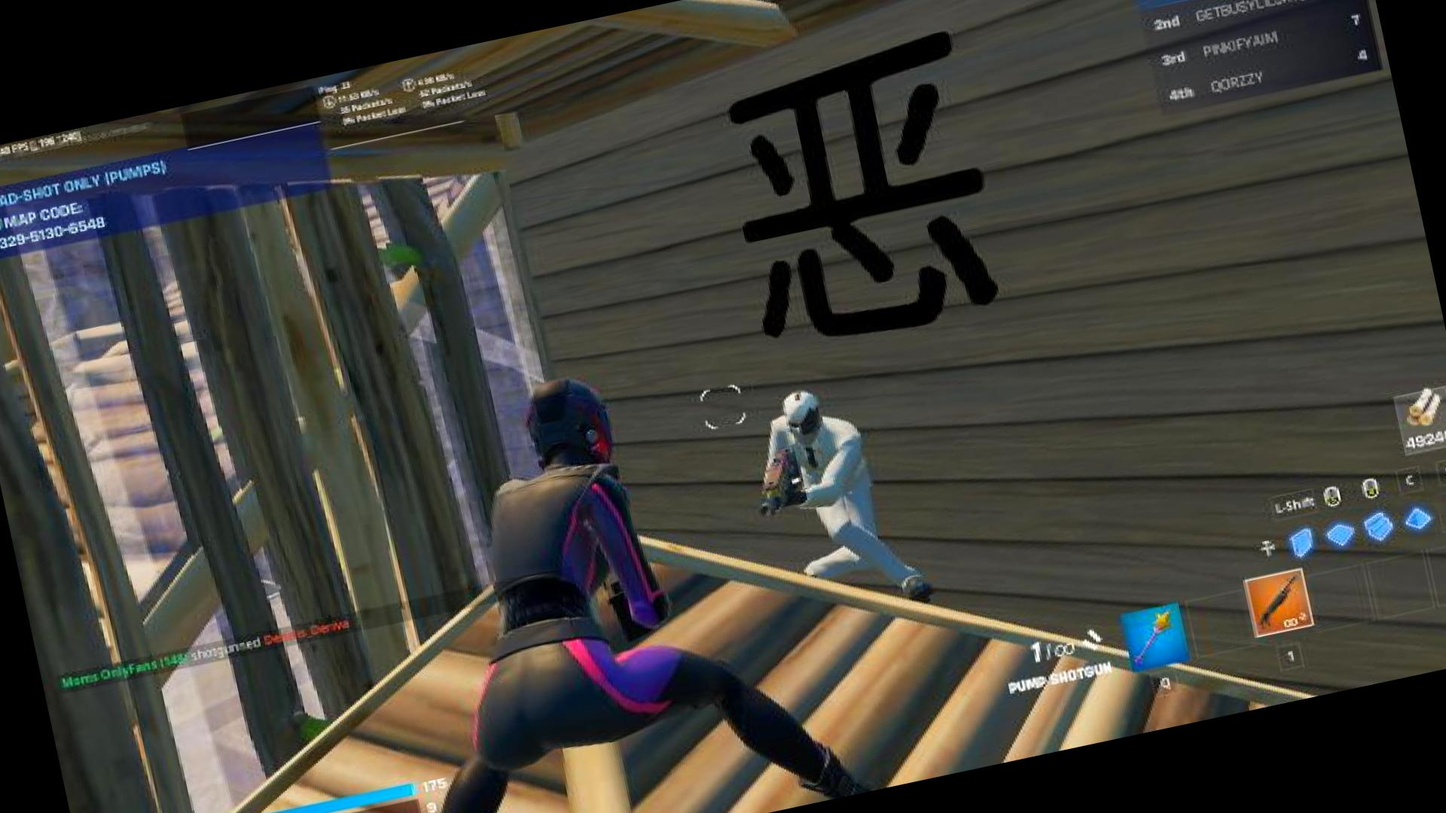player: (749, 366, 945, 611)
